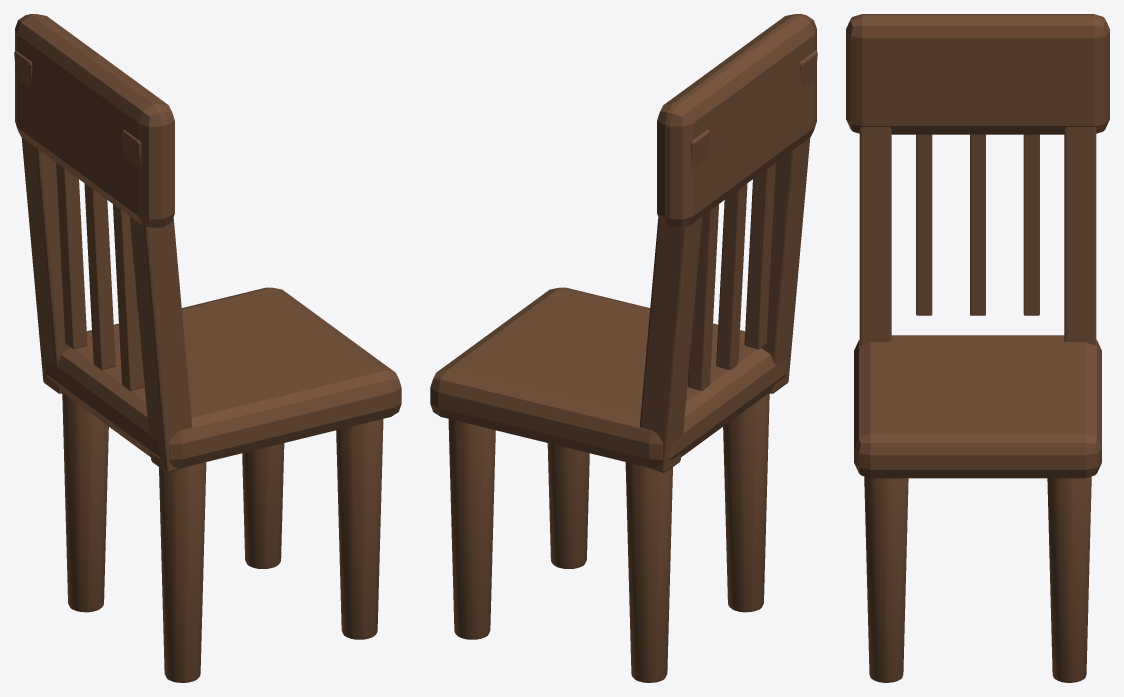
Rendered from SM_CP_CrimeChair.fbx.
3 views of the same model, side by side, from view 1: azimuth 30°, elevation 25°; view 2: azimuth 150°, elevation 25°; view 3: azimuth 270°, elevation 25° (orthographic). The views are drawn at different scales.
Parts seen in each view (by area): view 1: SM_CP_CrimeChair; view 2: SM_CP_CrimeChair; view 3: SM_CP_CrimeChair.
Boxes of the visible parts, x1,y1,x2,y2 form: SM_CP_CrimeChair: [14, 14, 401, 682]; SM_CP_CrimeChair: [430, 14, 817, 682]; SM_CP_CrimeChair: [846, 14, 1109, 682].
Size of what is drawn, in the model's own units: 54.44 by 49 by 115.
